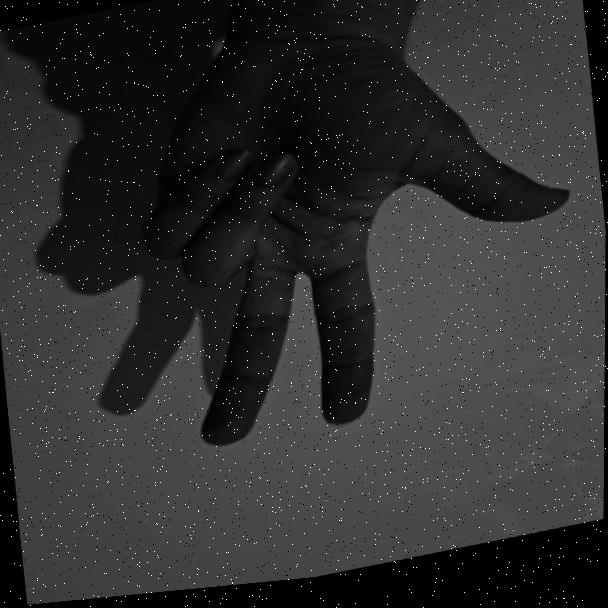three: (109, 1, 584, 469)
